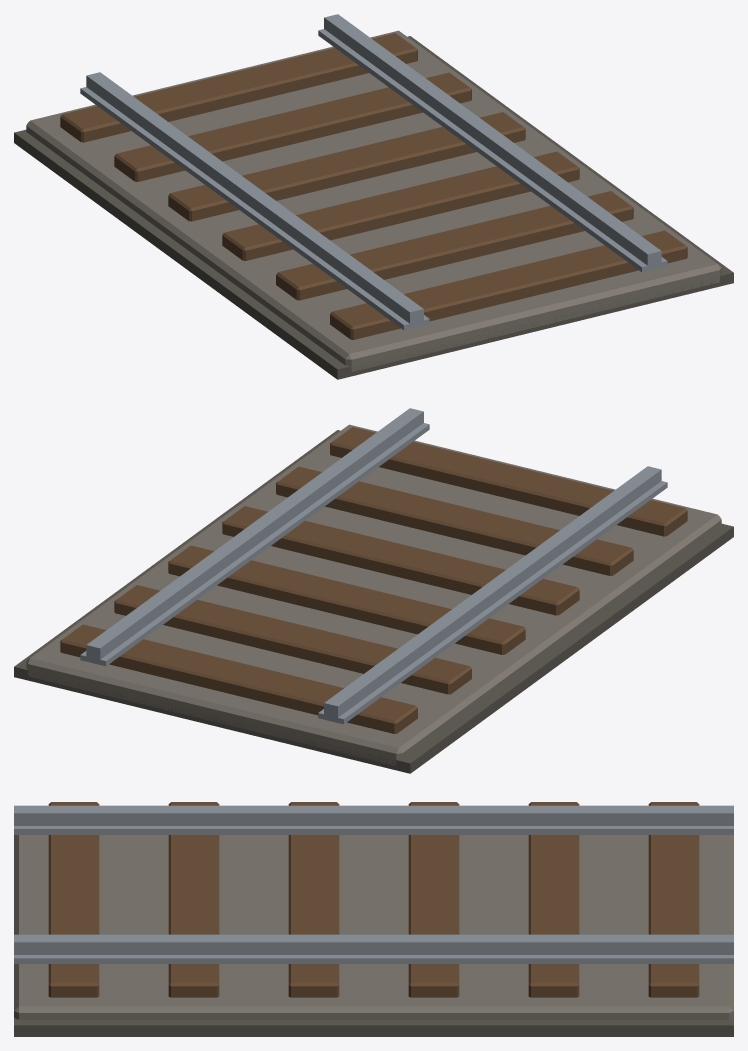
File: rail_diagonal.glb
3 views of the same model, one above another, from view 1: azimuth 30°, elevation 25°; view 2: azimuth 150°, elevation 25°; view 3: azimuth 270°, elevation 25° (orthographic). The views are drawn at different scales.
Visible parts, largest first — view 1: rail_traverse.004, rail_ballast.004, rail_rail.004, rail_ballast_sombre.004; view 2: rail_traverse.004, rail_ballast.004, rail_rail.004, rail_ballast_sombre.004; view 3: rail_ballast.004, rail_rail.004, rail_traverse.004, rail_ballast_sombre.004.
Boxes of the visible parts, x1,y1,x2,y2 form: rail_traverse.004: (60, 33, 687, 339); rail_ballast.004: (26, 30, 721, 371); rail_rail.004: (80, 14, 667, 330); rail_ballast_sombre.004: (14, 36, 733, 379); rail_traverse.004: (60, 427, 687, 733); rail_ballast.004: (26, 424, 721, 765); rail_rail.004: (80, 408, 667, 724); rail_ballast_sombre.004: (14, 430, 733, 773); rail_ballast.004: (14, 835, 733, 1019); rail_rail.004: (14, 805, 733, 963); rail_traverse.004: (48, 802, 699, 997); rail_ballast_sombre.004: (14, 1018, 733, 1036).
Size of the model in its own units: 1 by 0.12 by 1.41.
